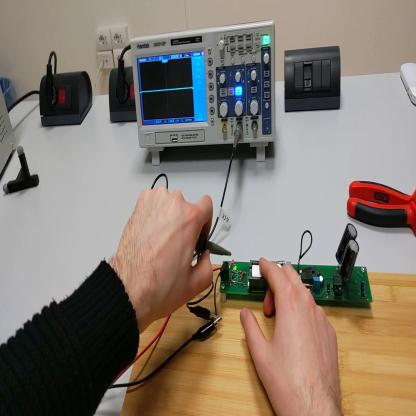hand: (242, 259, 343, 416), (116, 183, 215, 320)
high voltage board: (212, 223, 373, 315)
oscilloscope: (128, 19, 278, 171)
oscilloscope probe tip: (197, 240, 233, 258)
pliers: (346, 181, 415, 233)
power supply: (2, 70, 21, 180)
socket: (41, 67, 94, 129), (107, 63, 139, 126)
working area: (123, 236, 416, 416)
